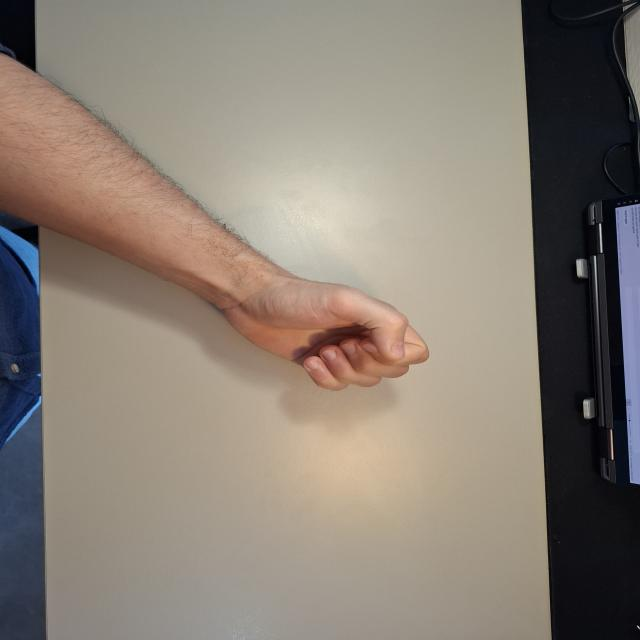glove_off: (212, 265, 428, 386)
